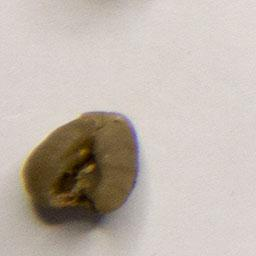peaberry: (19, 106, 144, 227)
